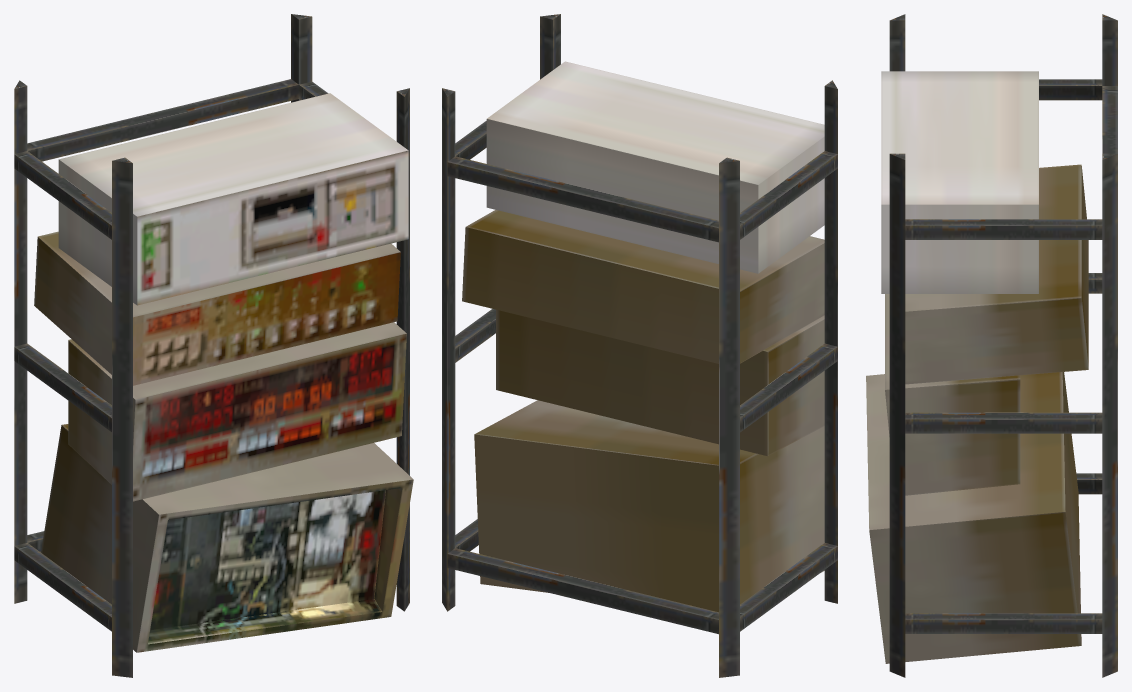
The model's file is MFrame4.glb.
3 views of the same model, side by side, from view 1: azimuth 30°, elevation 25°; view 2: azimuth 150°, elevation 25°; view 3: azimuth 270°, elevation 25° (orthographic).
Visible parts, largest first — view 1: MFRAME4; view 2: MFRAME4; view 3: MFRAME4.
Boxes of the visible parts, x1,y1,x2,y2 form: MFRAME4: (14, 14, 413, 677); MFRAME4: (442, 14, 837, 677); MFRAME4: (866, 14, 1117, 677).
Bounding box in the file's own units: 0.878 × 1.45 × 0.639.
1 material, 1 textured.
